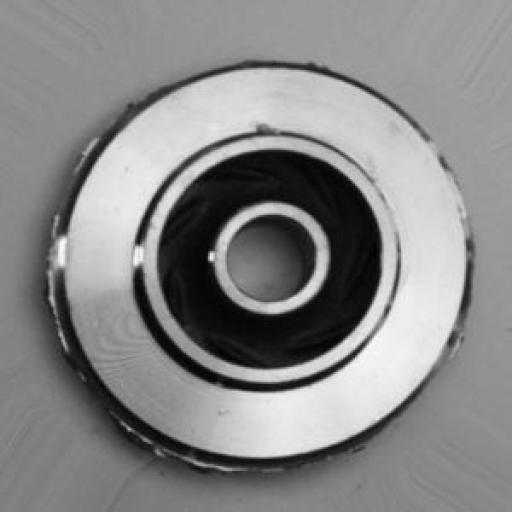defect: (16, 40, 496, 484)
